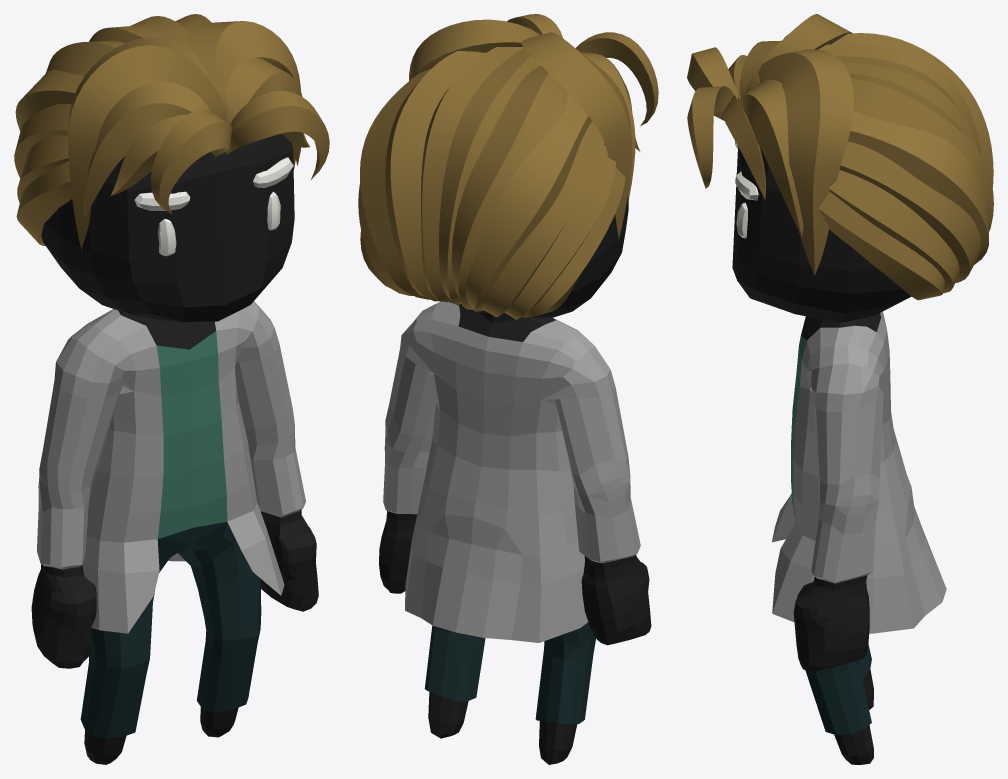
File: doctor-male-young-9c3da42db8.glb
The picture shows the model from 3 angles, left to right: view 1: azimuth 30°, elevation 25°; view 2: azimuth 150°, elevation 25°; view 3: azimuth 270°, elevation 25°; orthographic projection. The views are drawn at different scales.
Visible parts, largest first — view 1: Doctor_Male_Young.obj; view 2: Doctor_Male_Young.obj; view 3: Doctor_Male_Young.obj.
Part boxes in pixels (bbox=[...]): Doctor_Male_Young.obj: bbox=[14, 14, 329, 764]; Doctor_Male_Young.obj: bbox=[358, 14, 658, 764]; Doctor_Male_Young.obj: bbox=[687, 14, 993, 764].
Bounding box in the file's own units: 1.29 × 3.29 × 1.31.
